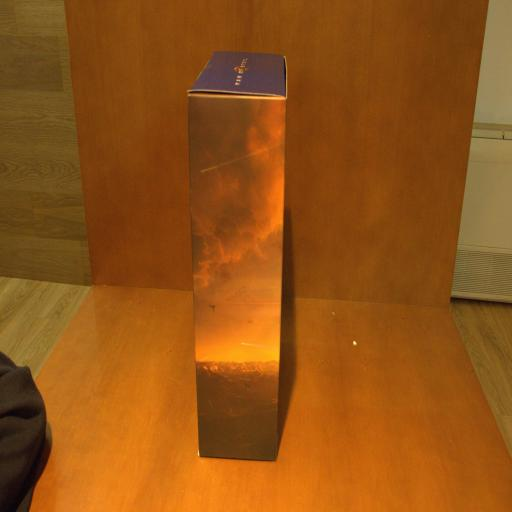superman: (188, 50, 288, 459)
